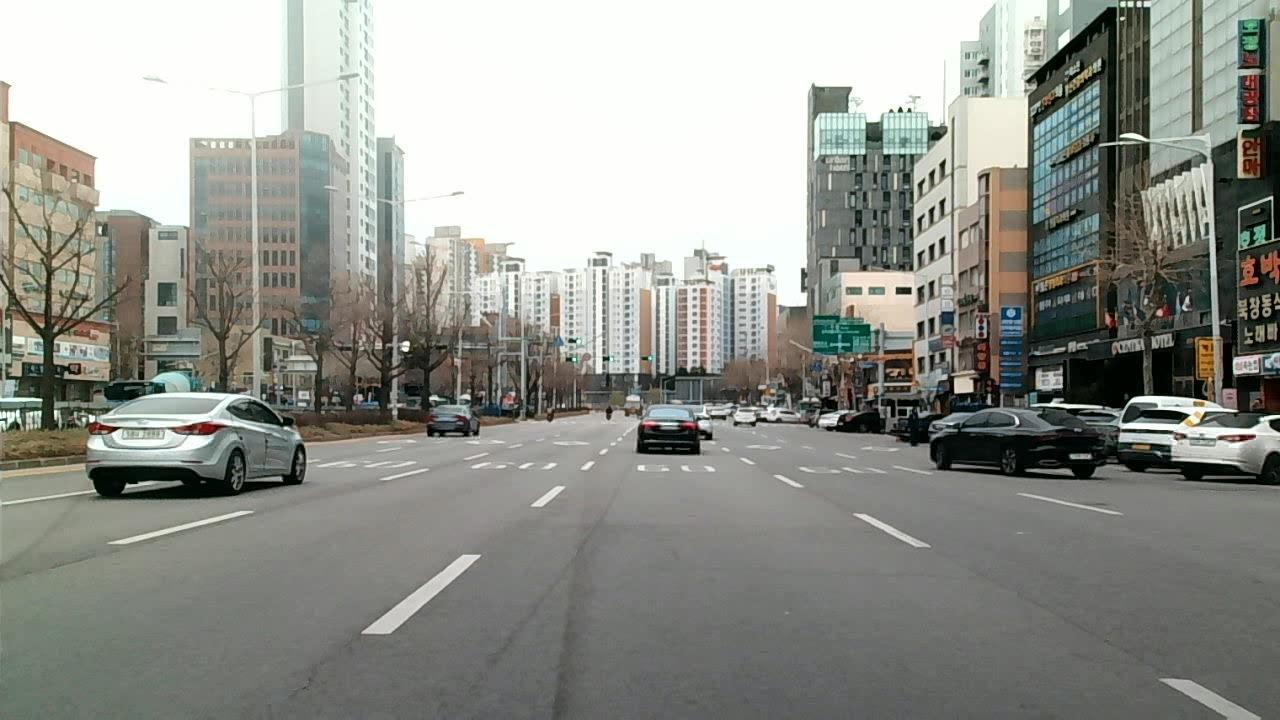banner: (940, 558, 1162, 667), (484, 566, 574, 657), (287, 631, 370, 692), (5, 545, 123, 582), (575, 483, 619, 553), (789, 566, 929, 582)
